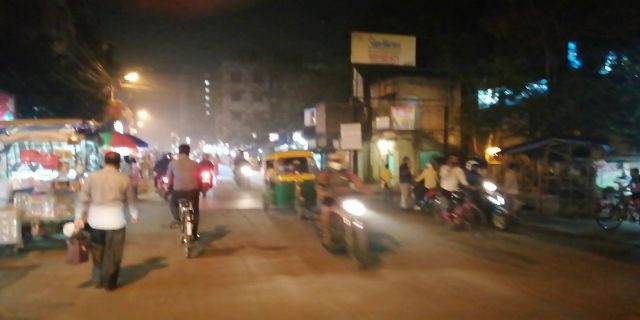Autorickshaw: (267, 147, 315, 210)
Cycle: (163, 139, 203, 260)
Motorbike: (309, 153, 384, 274)
